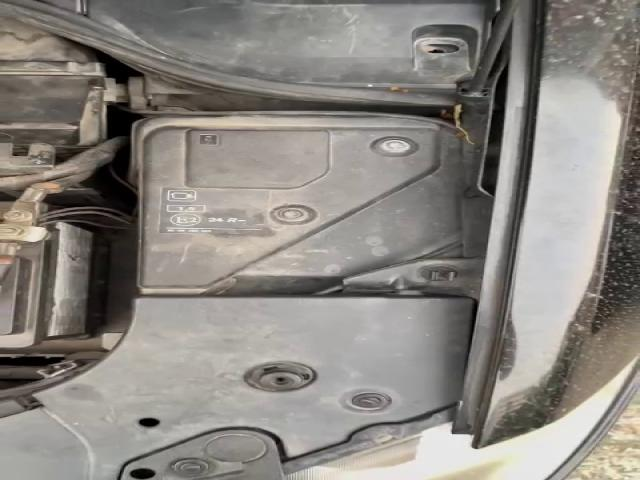accumulator: (3, 203, 114, 349)
fuse_box: (135, 114, 470, 298)
